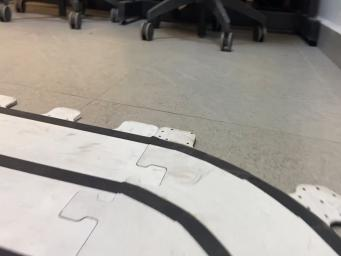street: (0, 102, 341, 256), (0, 102, 341, 256), (0, 102, 341, 256)
